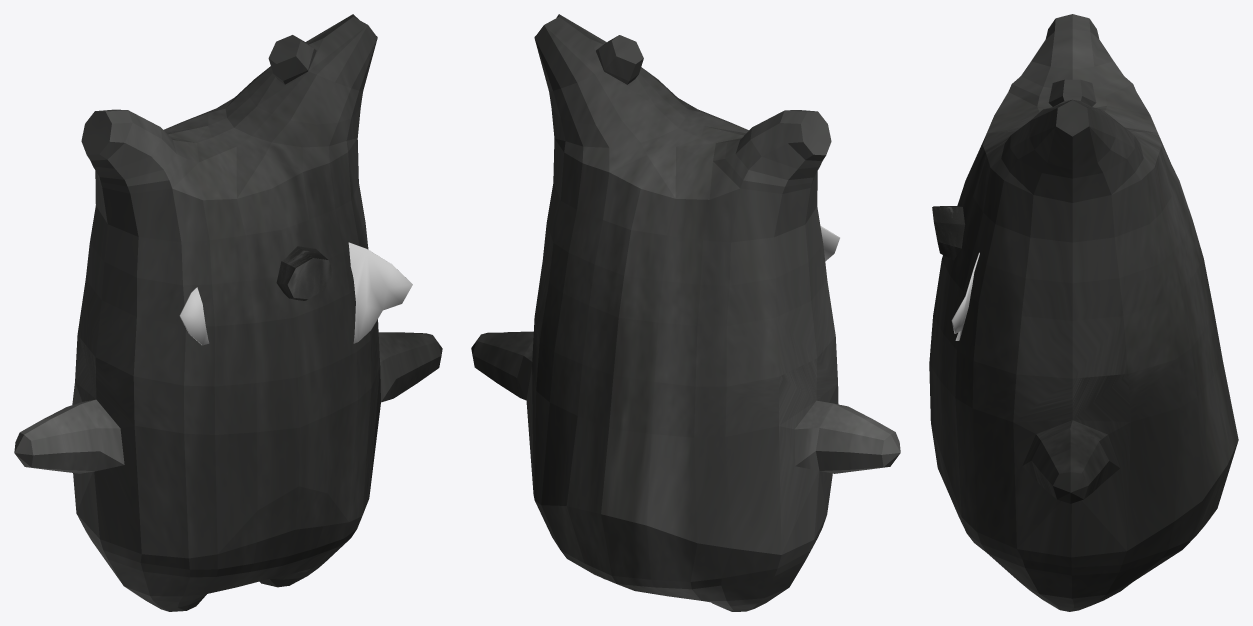
The model's file is frame_0012.obj.
3 views of the same model, side by side, from view 1: azimuth 30°, elevation 25°; view 2: azimuth 150°, elevation 25°; view 3: azimuth 270°, elevation 25° (orthographic).
Parts seen in each view (by area): view 1: korok, leaf, nose; view 2: korok; view 3: korok, nose, leaf.
Part boxes in pixels (<box>): korok: <box>14,14,442,611</box>; leaf: <box>179,242,412,345</box>; nose: <box>276,246,333,300</box>; korok: <box>471,14,900,611</box>; korok: <box>929,14,1238,611</box>; nose: <box>932,206,965,260</box>; leaf: <box>951,252,979,340</box>.
Bounding box in the file's own units: 1.92 × 2.35 × 1.21.
